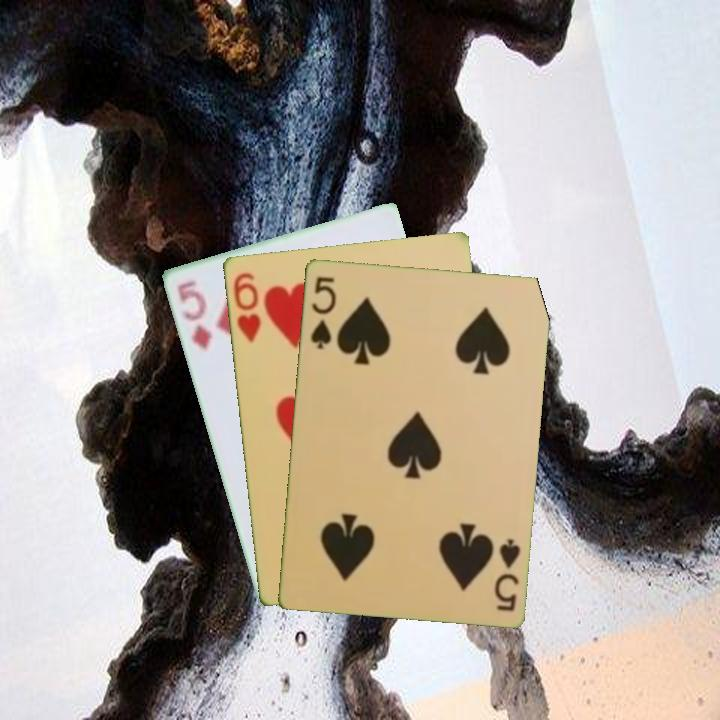5d: (173, 277, 215, 354)
5s: (490, 534, 523, 614), (306, 273, 339, 351)
6h: (229, 268, 263, 345)
